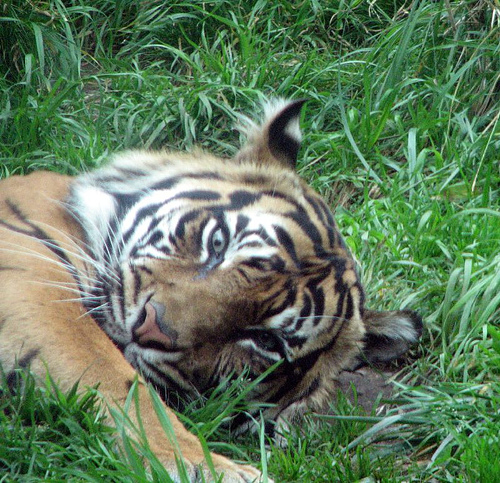Tigre: (24, 104, 415, 456)
